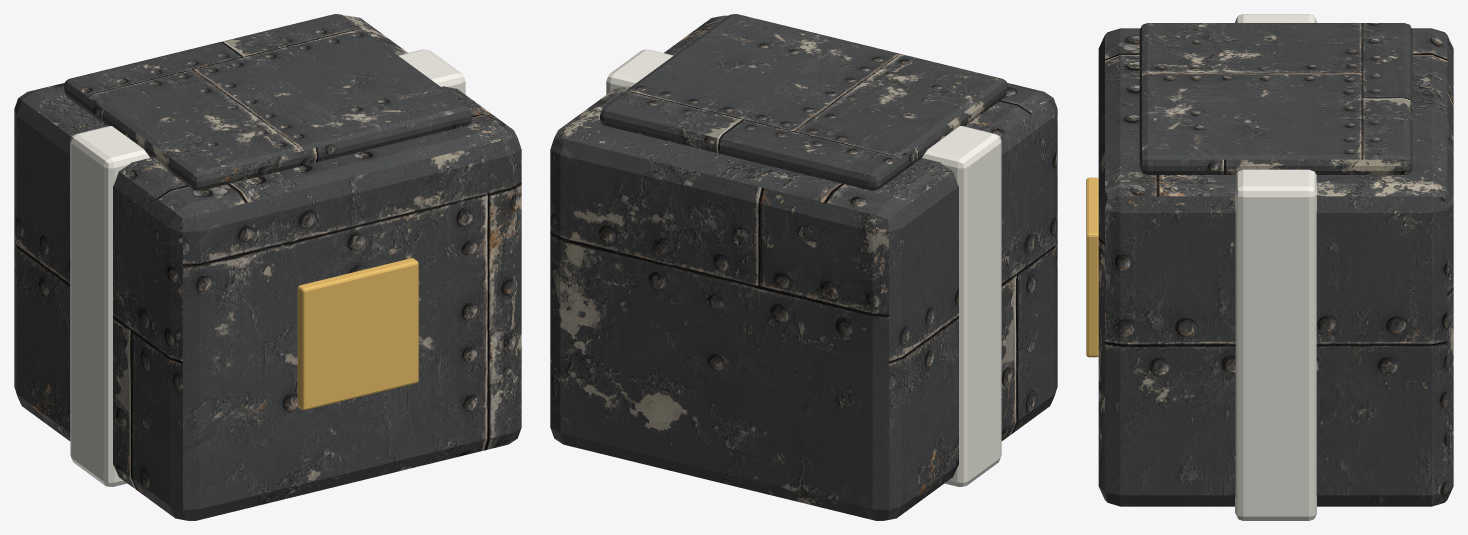
Rendered from prop_crate.glb.
The picture shows the model from 3 angles, left to right: view 1: azimuth 30°, elevation 25°; view 2: azimuth 150°, elevation 25°; view 3: azimuth 270°, elevation 25°; orthographic projection.
Parts seen in each view (by area): view 1: GEO-crate, GEO-crate-top, GEO-crate-band, GEO-crate-mark; view 2: GEO-crate, GEO-crate-top, GEO-crate-band; view 3: GEO-crate, GEO-crate-top, GEO-crate-band, GEO-crate-mark.
Boxes of the visible parts, x1,y1,x2,y2 form: GEO-crate: (14, 15, 521, 520); GEO-crate-top: (64, 14, 471, 190); GEO-crate-band: (70, 49, 465, 486); GEO-crate-mark: (297, 258, 418, 410); GEO-crate: (550, 15, 1057, 520); GEO-crate-top: (600, 14, 1007, 190); GEO-crate-band: (606, 49, 1001, 486); GEO-crate: (1098, 28, 1453, 506); GEO-crate-top: (1139, 23, 1412, 174); GEO-crate-band: (1235, 14, 1316, 520); GEO-crate-mark: (1086, 177, 1098, 357).
Bounding box in the file's own units: 31 × 27.9 × 26.9.
4 materials, 2 textured.
